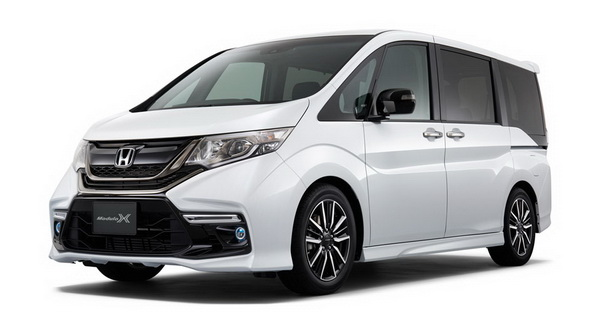van: (45, 24, 553, 296)
